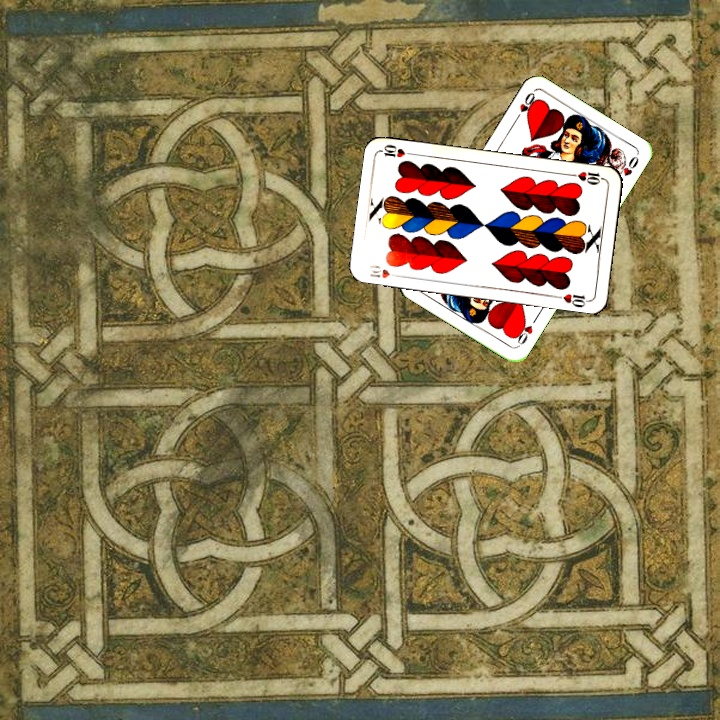H10: (566, 167, 607, 187), (366, 260, 404, 281)
HO: (511, 312, 540, 349), (510, 88, 539, 124)
